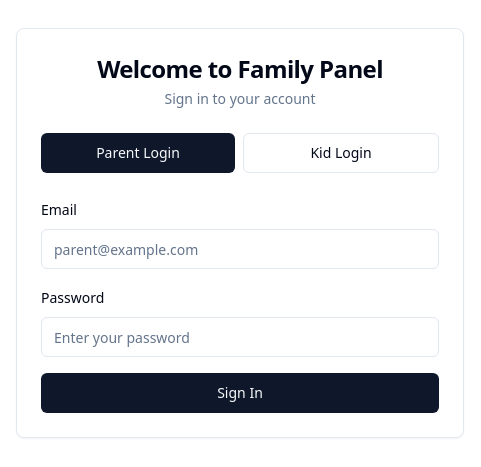
Test: Login Page › restricts PIN input to 4 digits
# Switch to kid mode
Click the button "Kid Login" at (341, 153), box [243,133,439,173]
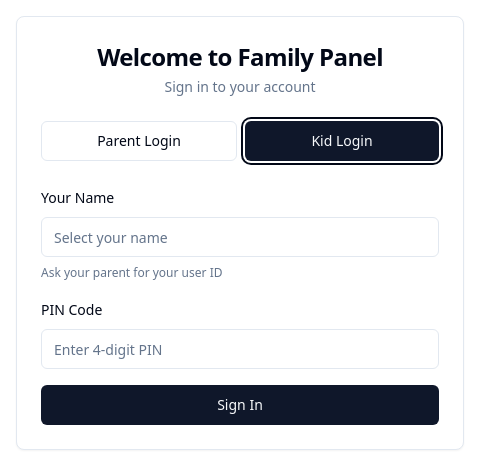
Type "123456" into the password field labelled "PIN Code" at (240, 349), box [41,329,439,369]
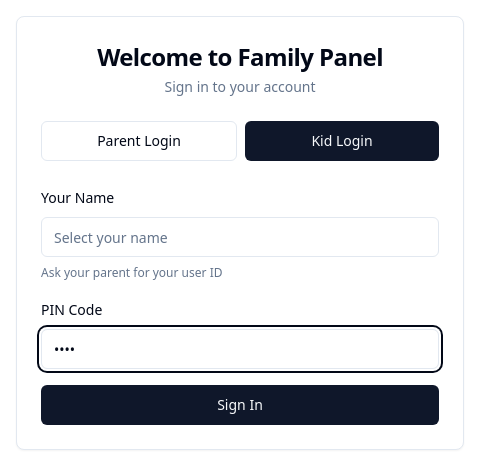
Now the password field labelled "PIN Code" holds "1234", box [41,329,439,369]
